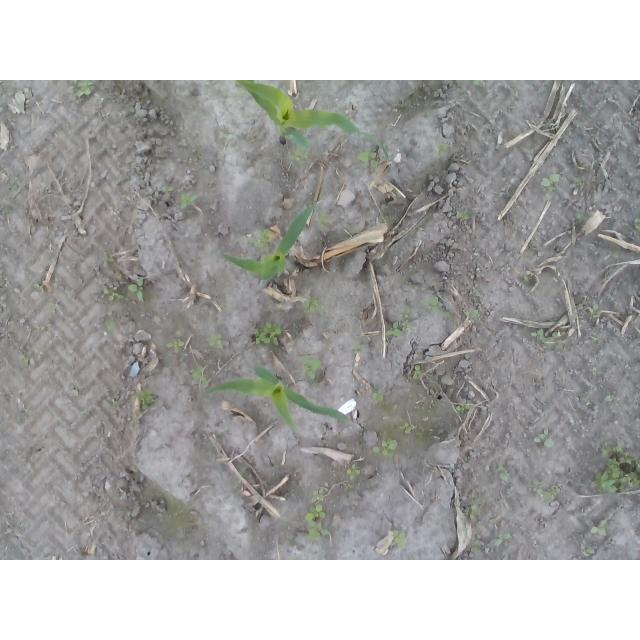Maize: (232, 81, 392, 164), (207, 366, 349, 435), (223, 201, 317, 283)
Weeds: (589, 446, 640, 498), (304, 482, 333, 542), (527, 479, 561, 501), (255, 321, 282, 346), (246, 229, 273, 252), (303, 287, 325, 314), (72, 81, 97, 104), (371, 437, 397, 459), (179, 193, 209, 212), (19, 348, 46, 368), (303, 351, 321, 381), (529, 329, 552, 352), (358, 145, 380, 168), (103, 285, 128, 303), (126, 278, 144, 303), (532, 434, 558, 451), (400, 424, 425, 441), (134, 389, 154, 410), (425, 294, 444, 314), (543, 172, 561, 192), (389, 529, 407, 548), (317, 212, 335, 230), (163, 338, 185, 352), (192, 367, 209, 385), (591, 520, 610, 536), (345, 463, 361, 482), (463, 504, 481, 520), (496, 463, 512, 481), (288, 147, 308, 161), (208, 333, 225, 349), (14, 410, 31, 426), (386, 319, 401, 337), (102, 319, 120, 332), (456, 208, 472, 222), (588, 303, 600, 321), (434, 143, 449, 157), (496, 532, 512, 545), (400, 310, 412, 327), (191, 111, 210, 121), (575, 174, 585, 190), (454, 403, 470, 413), (372, 388, 384, 401), (469, 308, 481, 321), (33, 325, 48, 334), (413, 365, 422, 380), (6, 181, 17, 193), (468, 543, 480, 554), (633, 217, 640, 235), (0, 207, 14, 215), (224, 133, 240, 140), (103, 255, 113, 266), (574, 213, 584, 224), (471, 80, 481, 90), (606, 391, 616, 401), (583, 547, 593, 557), (351, 343, 361, 353), (429, 400, 440, 409), (162, 186, 176, 193), (591, 367, 599, 377), (32, 281, 40, 290), (79, 409, 87, 417)
